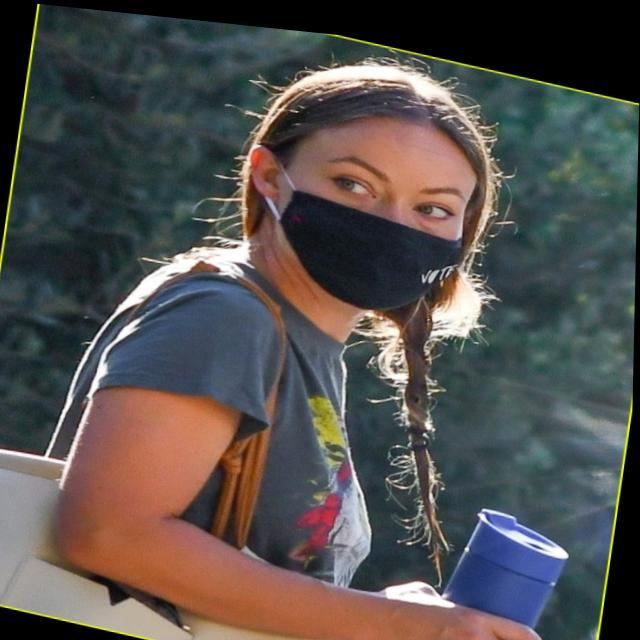Nonhelmet: (257, 49, 520, 312)
